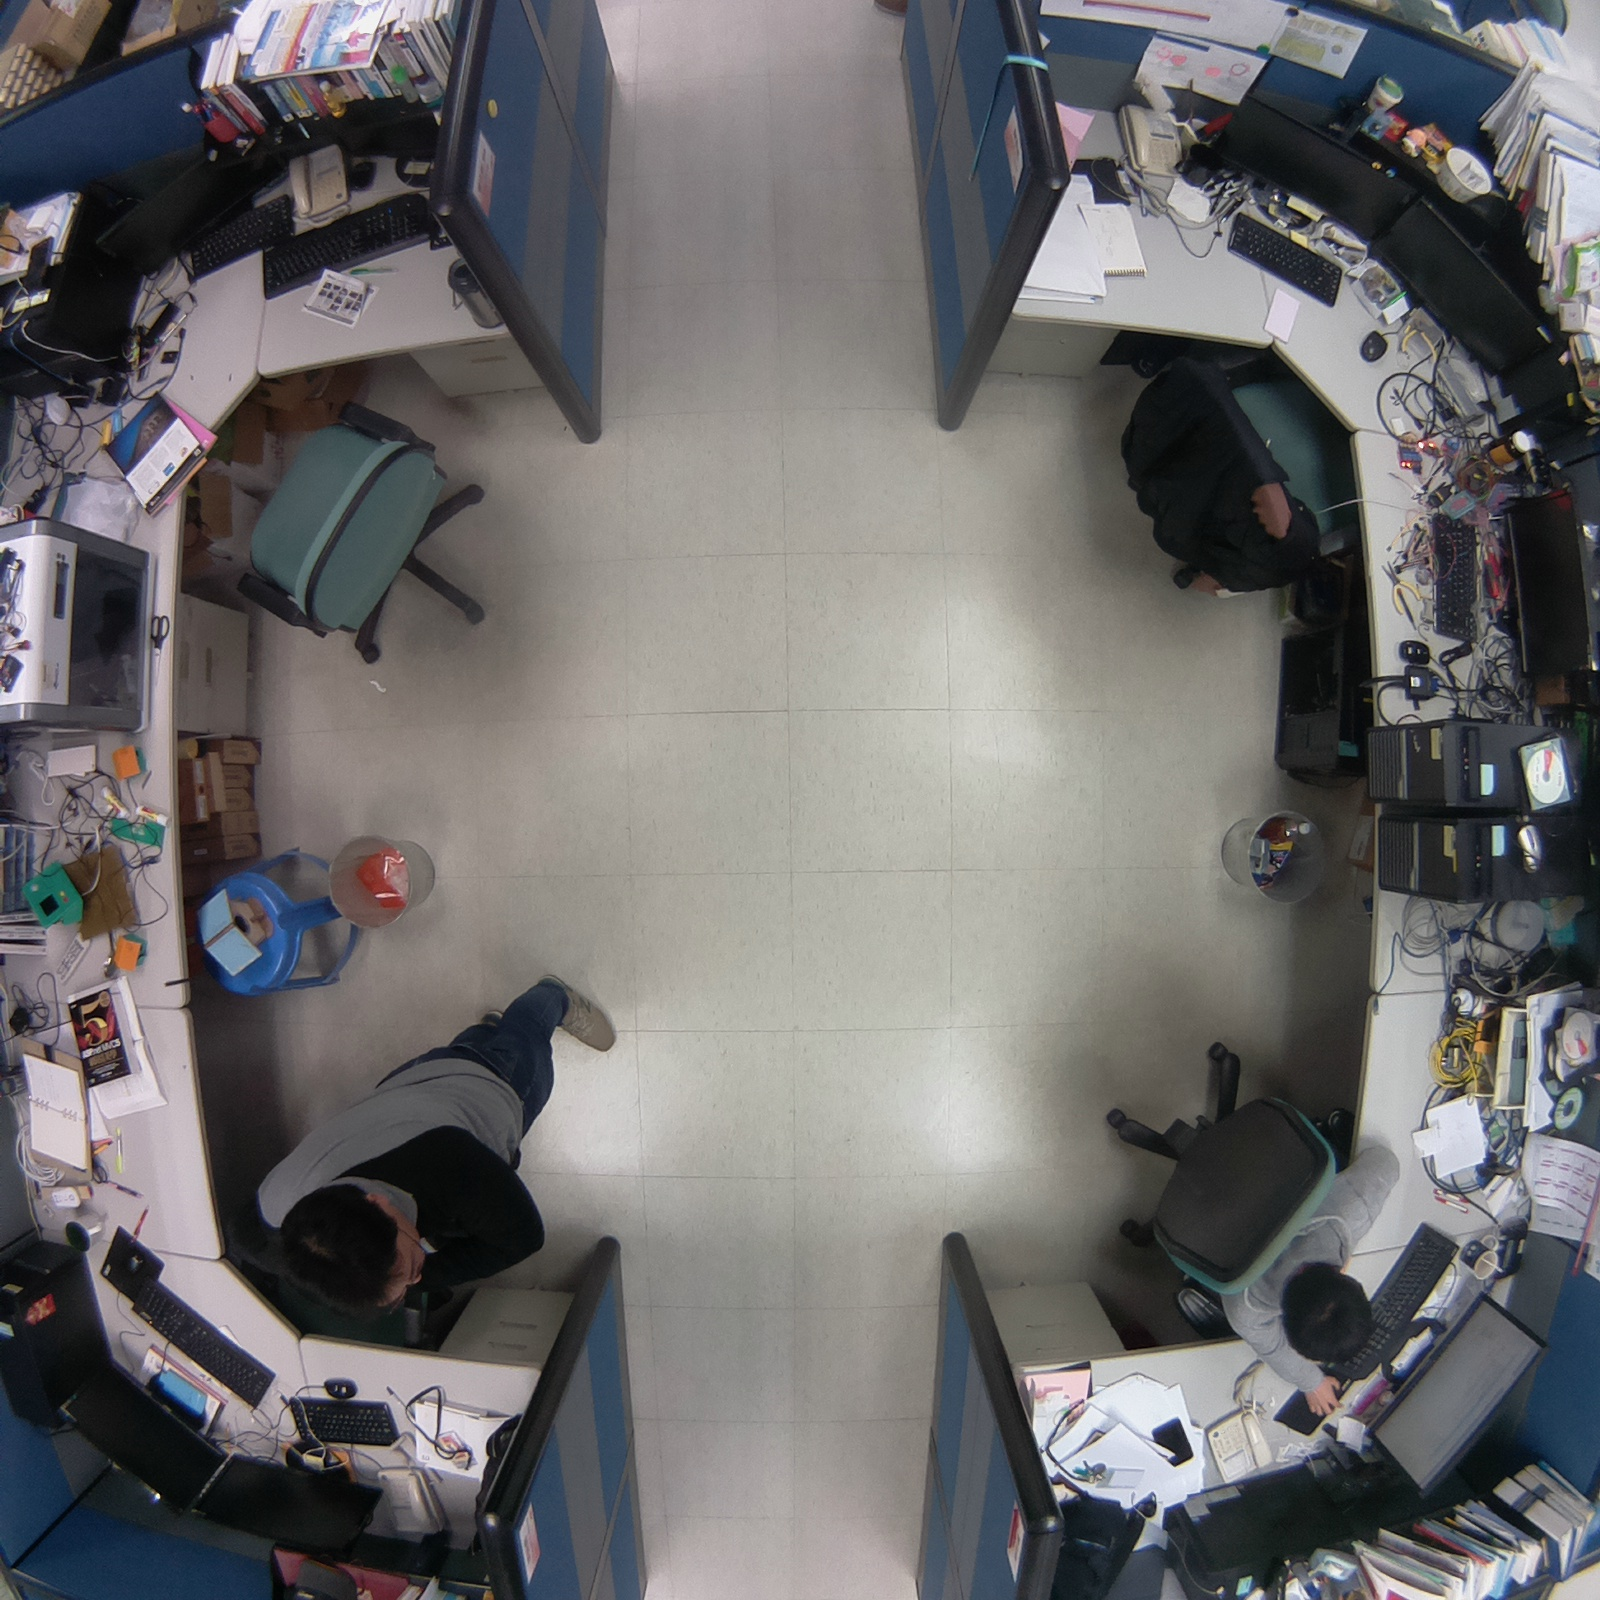chair: (181, 381, 517, 696), (1114, 319, 1383, 609)
head: (276, 1178, 438, 1319), (1272, 1261, 1383, 1370)
sitting: (1081, 1017, 1406, 1393)
standing: (250, 969, 627, 1329)
